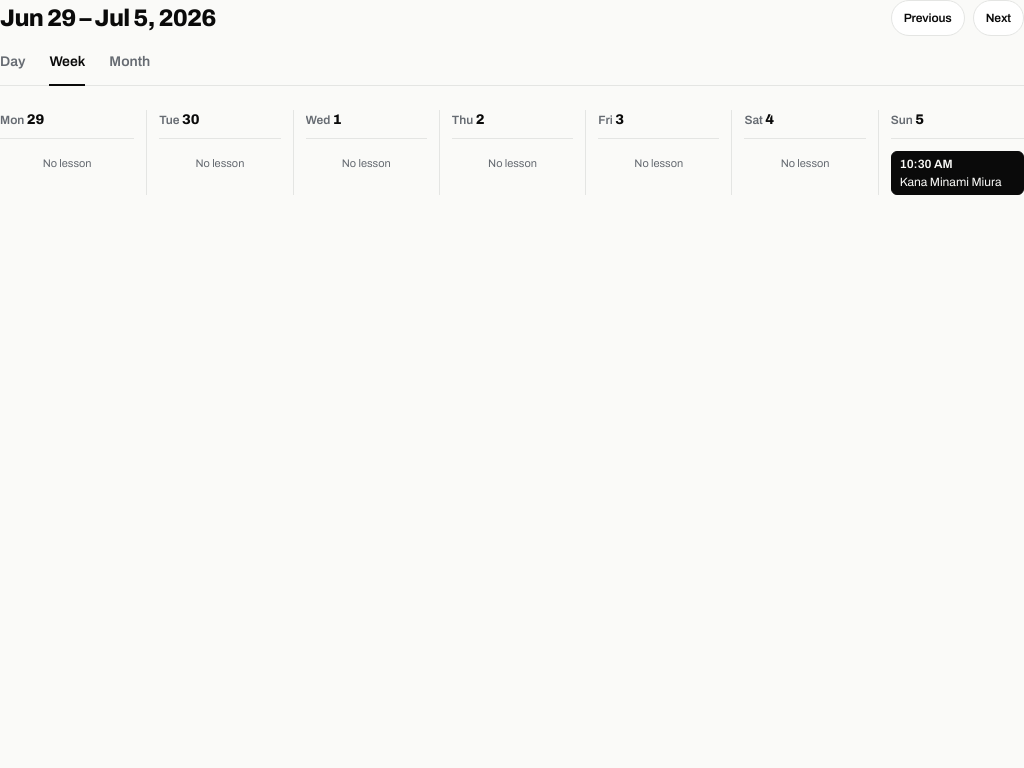
Test case: DashboardScheduleCalendar › a teacher is never offered to pay for somebody else's lesson
The width and height of the screenshot is (1024, 768).
Click the button with test id "schedule-chip": click(957, 173) [891,151,1023,195]
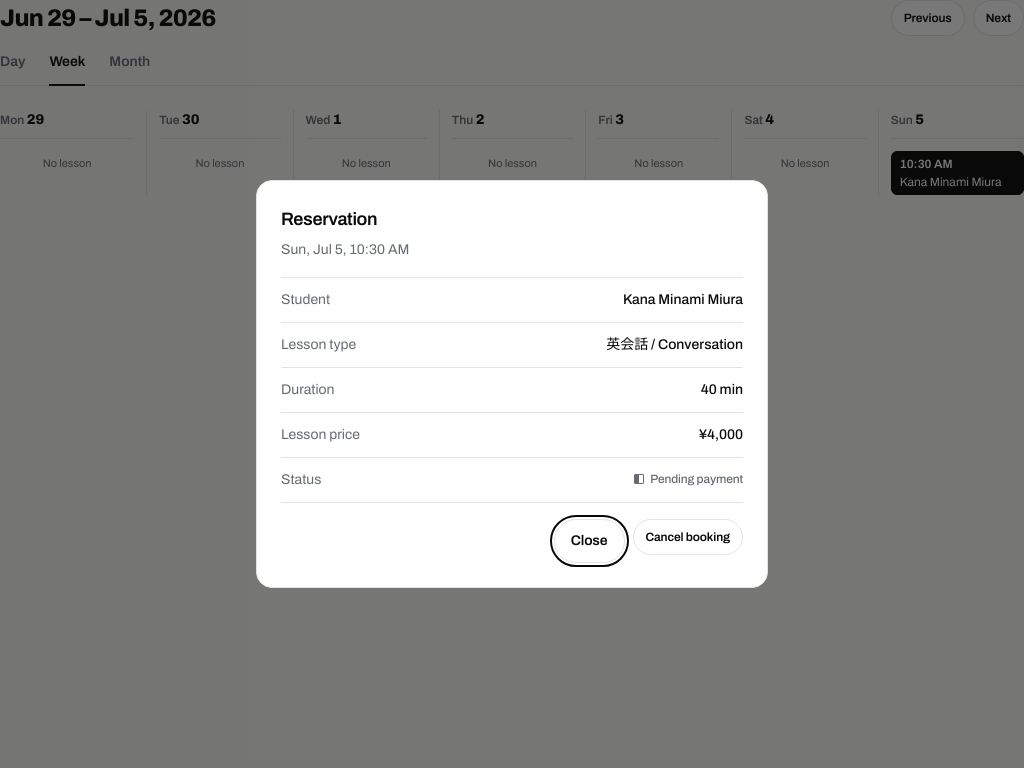
Expected: the text "Student" is shown, [281,290,330,310]
